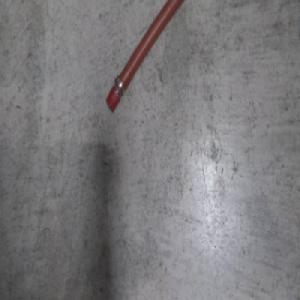Hose: (106, 0, 193, 116)
